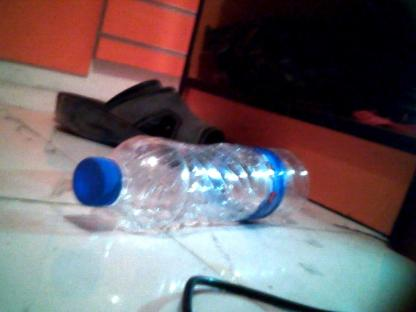Plastic Bottle: (59, 135, 309, 231)
